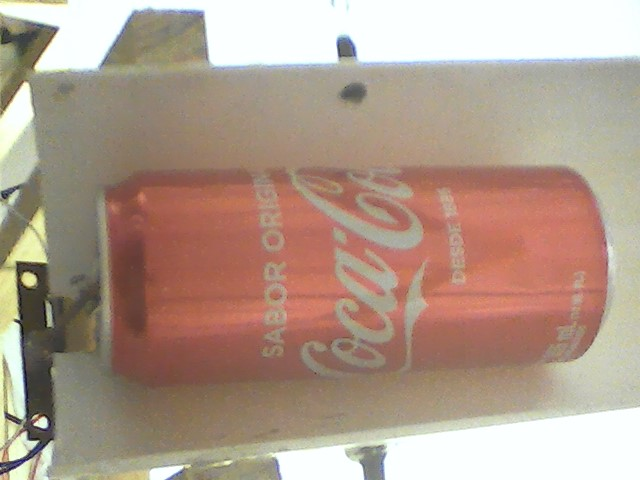lata: (95, 159, 618, 386)
